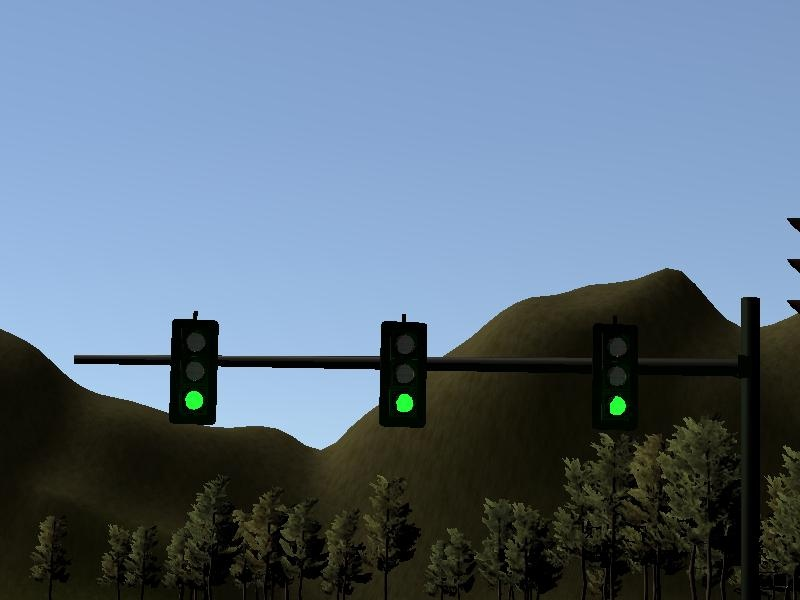GREEN: (169, 319, 218, 426), (378, 321, 427, 428), (591, 321, 640, 428)
